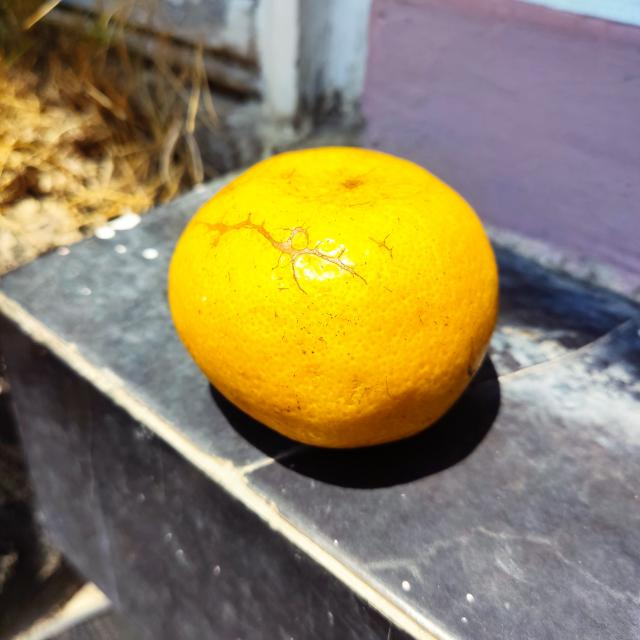orange: (160, 143, 501, 450)
